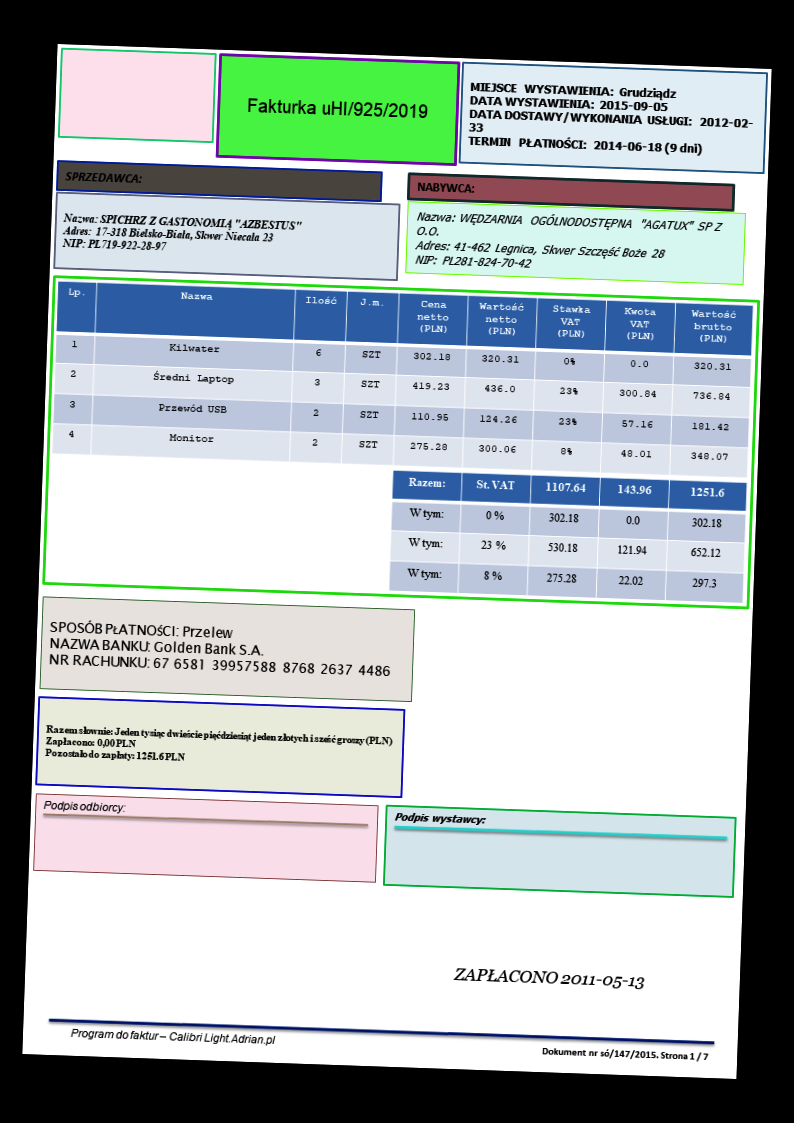Table: (50, 279, 754, 480), (388, 469, 748, 606)
TextBox: (465, 78, 758, 159), (46, 617, 394, 682), (412, 208, 726, 279), (43, 721, 395, 771), (60, 209, 305, 259), (451, 963, 646, 994), (69, 1023, 278, 1049), (244, 95, 431, 123), (540, 1043, 710, 1065), (392, 808, 487, 830), (41, 796, 127, 816), (62, 167, 145, 187), (414, 178, 476, 197)
